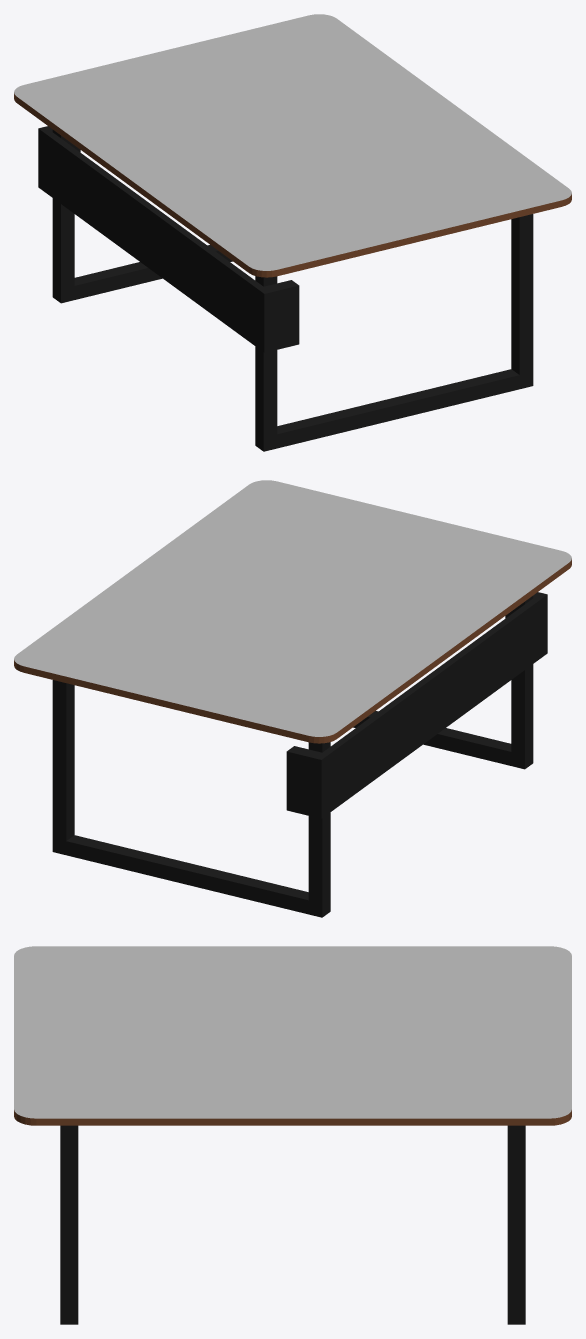
Rendered from bancorealista 2.fbx.
3 views of the same model, one above another, from view 1: azimuth 30°, elevation 25°; view 2: azimuth 150°, elevation 25°; view 3: azimuth 270°, elevation 25° (orthographic). The views are drawn at different scales.
Parts seen in each view (by area): view 1: Cube; view 2: Cube; view 3: Cube.
Boxes of the visible parts, x1=… form: Cube: x1=14, y1=14, x2=571, y2=451; Cube: x1=14, y1=480, x2=571, y2=917; Cube: x1=14, y1=946, x2=571, y2=1324.
Size of the model in its own units: 693 by 412 by 949.
